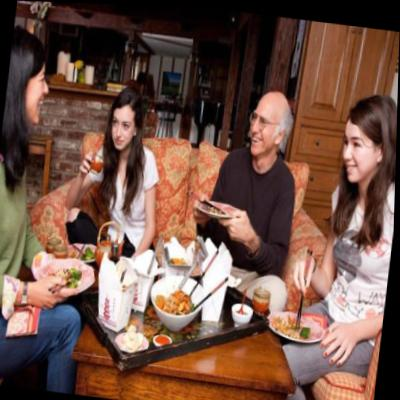happy: (339, 116, 376, 180), (21, 54, 54, 124), (247, 100, 281, 157)
netural: (108, 101, 138, 151)
